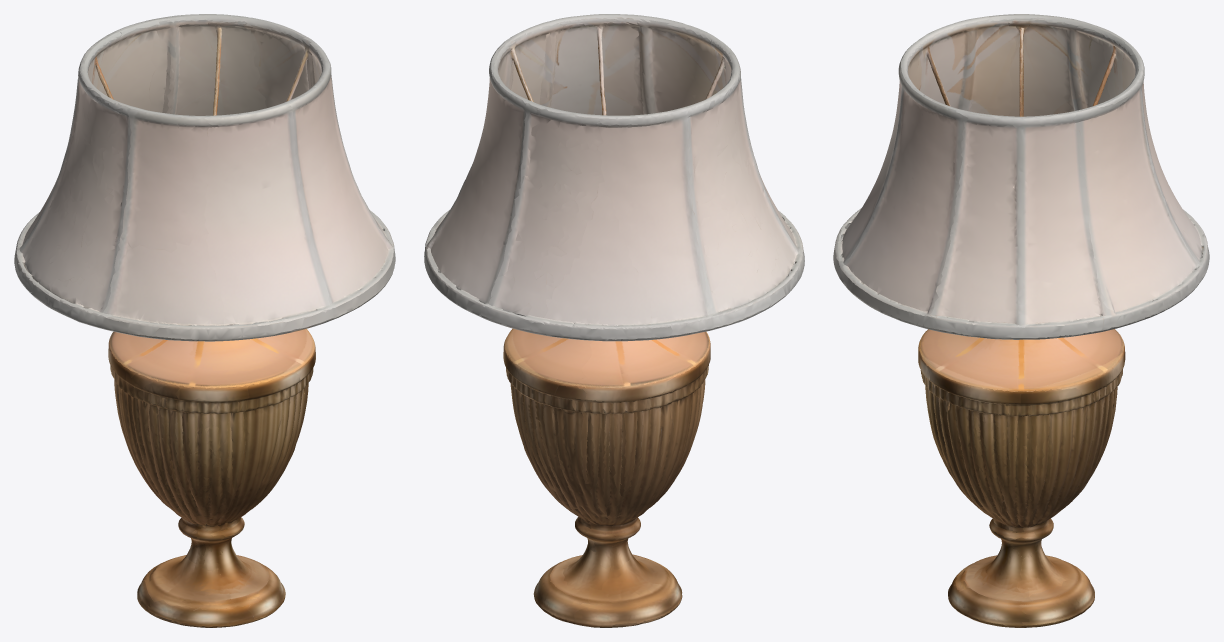
Rendered from lamp-8312455.glb.
3 views of the same model, side by side, from view 1: azimuth 30°, elevation 25°; view 2: azimuth 150°, elevation 25°; view 3: azimuth 270°, elevation 25° (orthographic).
Parts seen in each view (by area): view 1: geometry_0; view 2: geometry_0; view 3: geometry_0.
Part boxes in pixels (x1,y1,x2,y2): geometry_0: [14, 14, 395, 627]; geometry_0: [424, 14, 804, 627]; geometry_0: [833, 14, 1209, 627].
Bounding box in the file's own units: 0.4872 × 0.75 × 0.4838.
Materials: 1 (1 with a texture image).
